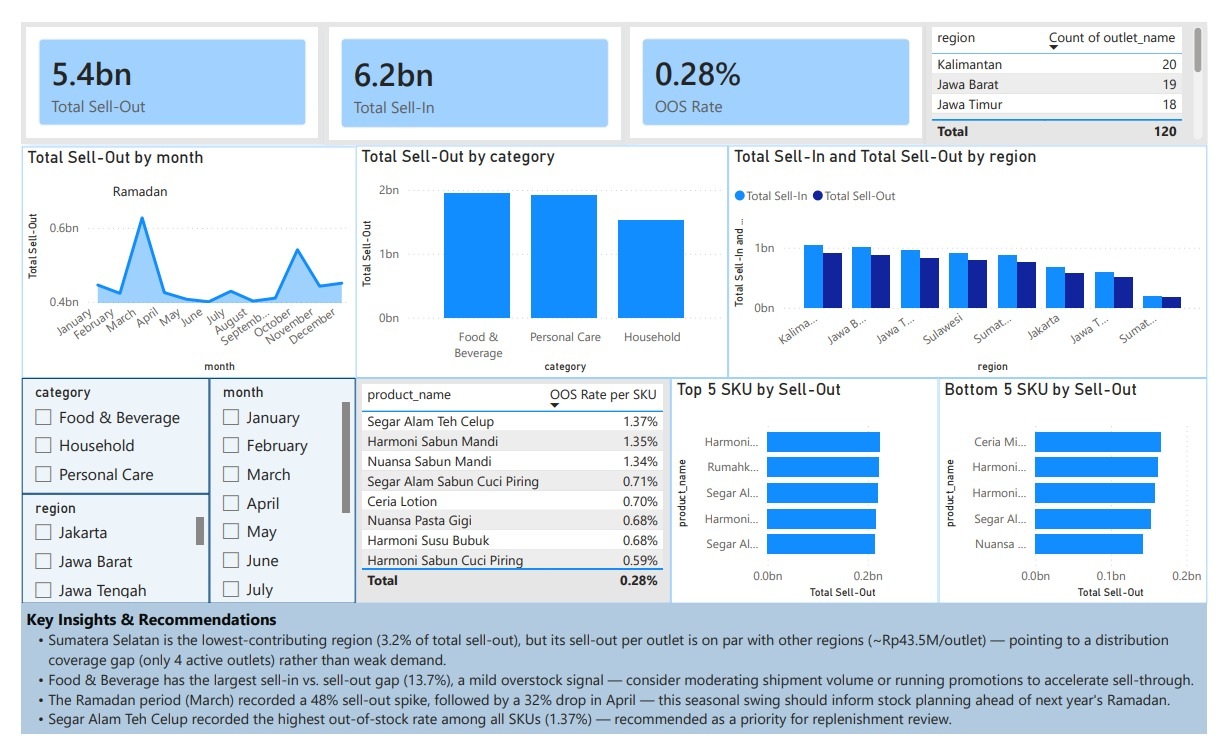

What the dashboard file says about the page in this screenshot:
{"tool":"powerbi","page":{"name":"FMCG Sales & Distribution Performance Dashboard","canvas":[1200,720],"ordinal":0},"visuals":[{"type":"cardVisual","fields":{"Data":["data_for_excel.Total Sell-Out"]},"box":[0,0,305.7,122.9],"z":0},{"type":"cardVisual","fields":{"Data":["data_for_excel.Total Sell-In"]},"box":[305.7,0,305.7,124.3],"z":1000},{"type":"cardVisual","fields":{"Data":["data_for_excel.OOS Rate"]},"box":[611.4,0,305.7,122.9],"z":2000},{"type":"lineChart","fields":{"Category":["data_for_excel.month"],"Y":["data_for_excel.Total Sell-Out"]},"box":[0,125.7,338.6,234.3],"z":3000},{"type":"clusteredColumnChart","fields":{"Category":["data_for_excel.category"],"Y":["data_for_excel.Total Sell-Out"]},"box":[338.3,125,376.7,235],"z":4000},{"type":"tableEx","fields":{"Values":["data_for_excel.region","data_for_excel.outlet_name"]},"box":[915.7,0,284.3,124.3],"z":6000},{"type":"clusteredColumnChart","fields":{"Category":["data_for_excel.region"],"Y":["data_for_excel.Total Sell-In","data_for_excel.Total Sell-Out"]},"box":[715,125,485,235],"z":7000},{"type":"clusteredBarChart","title":"Top 5 SKU by Sell-Out","fields":{"Category":["data_for_excel.product_name"],"Y":["data_for_excel.Total Sell-Out"]},"box":[656.7,360,271.7,228.3],"z":8000},{"type":"clusteredBarChart","title":"Bottom 5 SKU by Sell-Out","fields":{"Category":["data_for_excel.product_name"],"Y":["data_for_excel.Total Sell-Out"]},"box":[928.3,360,271.7,228.3],"z":9000},{"type":"tableEx","fields":{"Values":["data_for_excel.product_name","data_for_excel.OOS Rate per SKU"]},"box":[338.3,360,318.3,228.3],"z":10000},{"type":"slicer","fields":{"Values":["data_for_excel.category"]},"box":[0,360,190,116.7],"z":11000},{"type":"slicer","fields":{"Values":["data_for_excel.region"]},"box":[0,476.7,190,111.7],"z":12000},{"type":"slicer","fields":{"Values":["data_for_excel.month"]},"box":[190,360,148.3,228.3],"z":13000},{"type":"textbox","box":[0,588.3,1200,131.7],"z":14000},{"type":"textbox","box":[80,156.7,80,30],"z":15000}]}

Visuals, with their boxes in screenshot pixels (x1, y1, x2, y2), scaled from the page's 1200x720 canvas onto the 1229x756 screenshot:
cardVisual - data_for_excel.Total Sell-Out: bbox=[0, 0, 313, 129]
cardVisual - data_for_excel.Total Sell-In: bbox=[313, 0, 626, 131]
cardVisual - data_for_excel.OOS Rate: bbox=[626, 0, 939, 129]
lineChart - data_for_excel.month x data_for_excel.Total Sell-Out: bbox=[0, 132, 347, 378]
clusteredColumnChart - data_for_excel.category x data_for_excel.Total Sell-Out: bbox=[346, 131, 732, 378]
tableEx - data_for_excel.region x data_for_excel.outlet_name: bbox=[938, 0, 1228, 131]
clusteredColumnChart - data_for_excel.region x data_for_excel.Total Sell-In: bbox=[732, 131, 1228, 378]
"Top 5 SKU by Sell-Out" clusteredBarChart: bbox=[673, 378, 951, 618]
"Bottom 5 SKU by Sell-Out" clusteredBarChart: bbox=[951, 378, 1228, 618]
tableEx - data_for_excel.product_name x data_for_excel.OOS Rate per SKU: bbox=[346, 378, 672, 618]
slicer - data_for_excel.category: bbox=[0, 378, 195, 501]
slicer - data_for_excel.region: bbox=[0, 501, 195, 618]
slicer - data_for_excel.month: bbox=[195, 378, 346, 618]
textbox: bbox=[0, 618, 1228, 755]
textbox: bbox=[82, 165, 164, 196]
